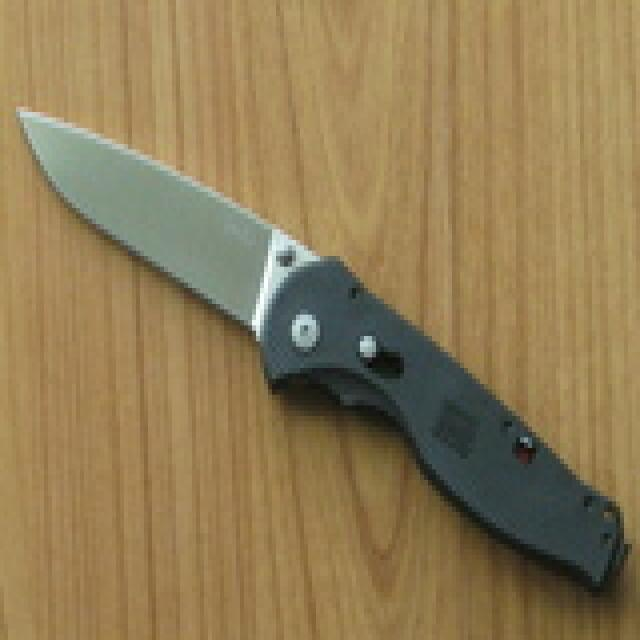Knife: (10, 81, 636, 595)
